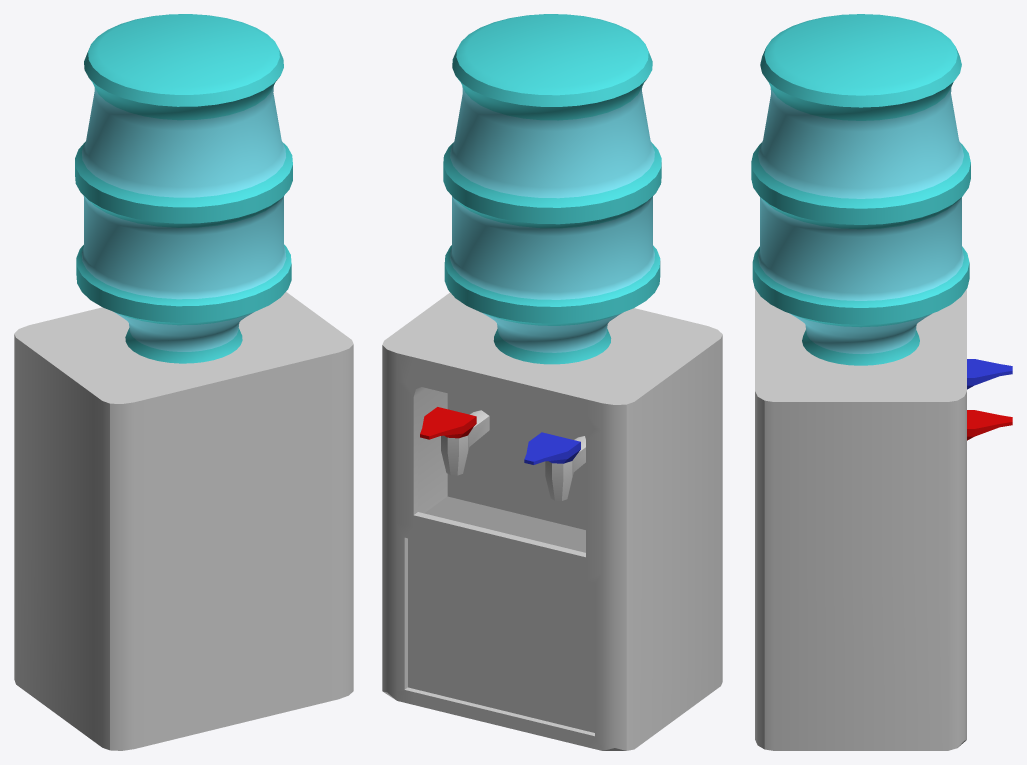
The model's file is Water_Cooler.fbx.
The picture shows the model from 3 angles, left to right: view 1: azimuth 30°, elevation 25°; view 2: azimuth 150°, elevation 25°; view 3: azimuth 270°, elevation 25°; orthographic projection.
Parts seen in each view (by area): view 1: Water_Cooler; view 2: Water_Cooler; view 3: Water_Cooler.
Boxes of the visible parts, x1,y1,x2,y2 form: Water_Cooler: (14, 14, 353, 750); Water_Cooler: (382, 14, 722, 750); Water_Cooler: (751, 14, 1012, 750).
Bounding box in the file's own units: 1.33 × 1.2 × 3.23.
